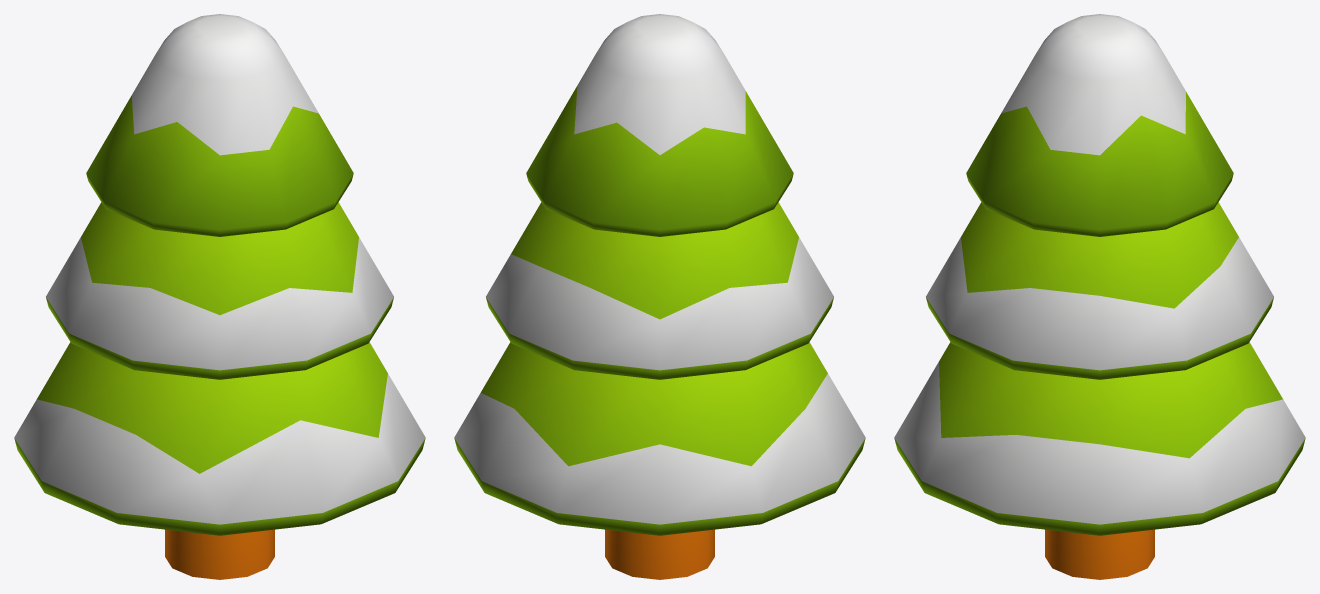
File: Plant_Tree_Ice_01.fbx
3 renders of one model, left to right at view 1: azimuth 30°, elevation 25°; view 2: azimuth 150°, elevation 25°; view 3: azimuth 270°, elevation 25°, orthographic.
Visible parts, largest first — view 1: Plant_Tree_Ice_01; view 2: Plant_Tree_Ice_01; view 3: Plant_Tree_Ice_01.
Boxes of the visible parts, box(x1,y1,x2,y2) form: Plant_Tree_Ice_01: box(14, 14, 425, 579); Plant_Tree_Ice_01: box(454, 14, 865, 579); Plant_Tree_Ice_01: box(894, 14, 1305, 579).
Size of the model in its own units: 200 by 284 by 200.
